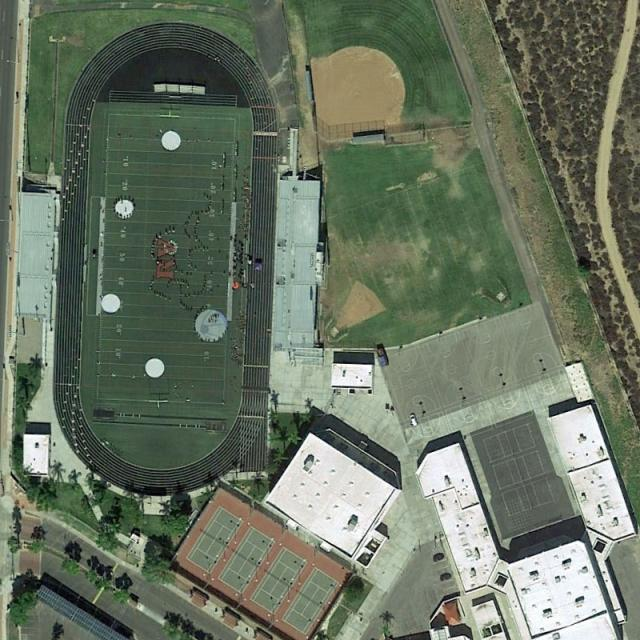vehicle: (440, 573, 452, 582), (410, 414, 418, 426), (434, 554, 444, 562)
